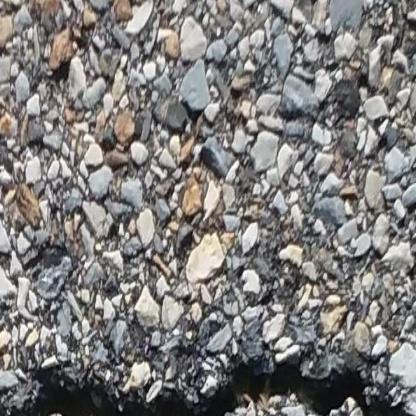Cracks: (0, 356, 416, 416)
